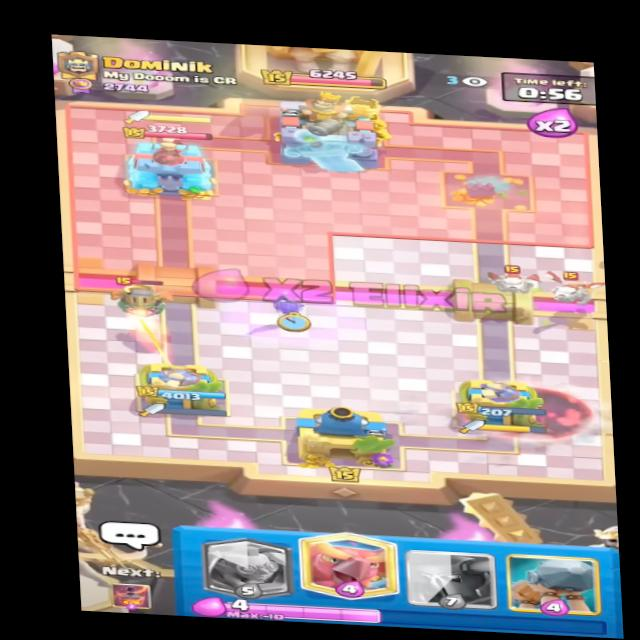inferno-dragon: (102, 268, 188, 321)
skeleton-dragon: (476, 256, 541, 298), (539, 269, 602, 310)
